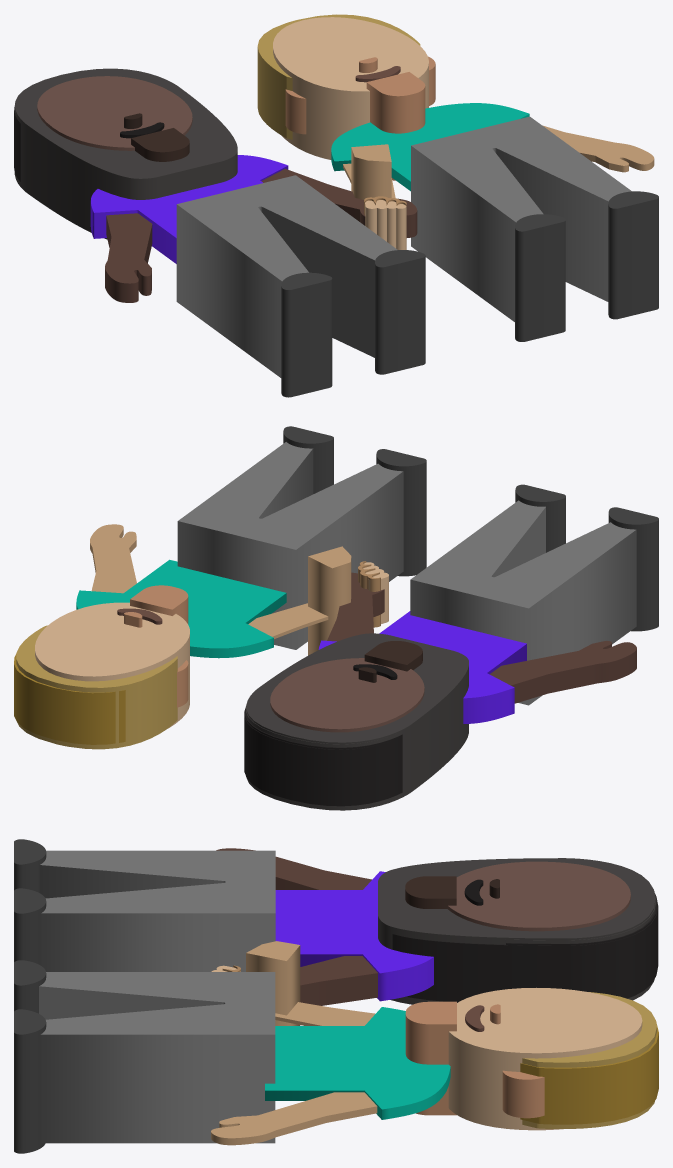
The model's file is emoji_u1f469_1f3ff_200d_1f91d_200d_1f468_1f3fc.glb.
The picture shows the model from 3 angles, top to bottom: view 1: azimuth 30°, elevation 25°; view 2: azimuth 150°, elevation 25°; view 3: azimuth 270°, elevation 25°; orthographic projection. The views are drawn at different scales.
Parts seen in each view (by area): view 1: emoji_u1f469_1f3ff_200d_1f91d_200d_1f468_1f3fc; view 2: emoji_u1f469_1f3ff_200d_1f91d_200d_1f468_1f3fc; view 3: emoji_u1f469_1f3ff_200d_1f91d_200d_1f468_1f3fc.
Boxes of the visible parts, x1,y1,x2,y2 form: emoji_u1f469_1f3ff_200d_1f91d_200d_1f468_1f3fc: [14, 14, 658, 397]; emoji_u1f469_1f3ff_200d_1f91d_200d_1f468_1f3fc: [14, 426, 658, 810]; emoji_u1f469_1f3ff_200d_1f91d_200d_1f468_1f3fc: [14, 839, 658, 1153].
Bounding box in the file's own units: 0.0346 × 0.0068 × 0.0334.
